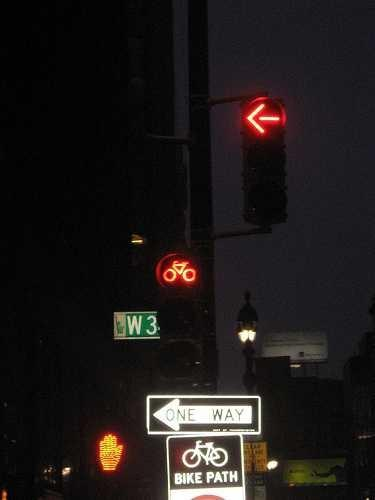red: (244, 93, 285, 145)
